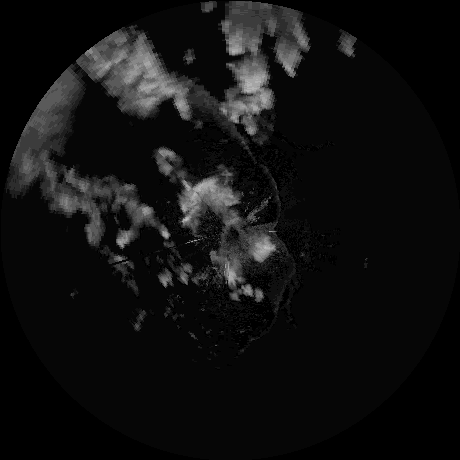frontgust: (272, 262, 295, 319), (261, 163, 283, 222)
